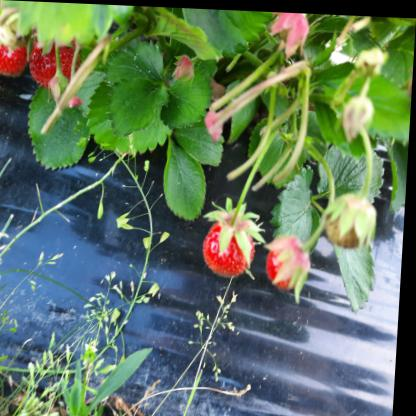ripe: (202, 209, 258, 273), (31, 34, 88, 86), (269, 231, 313, 294), (0, 22, 29, 78)
